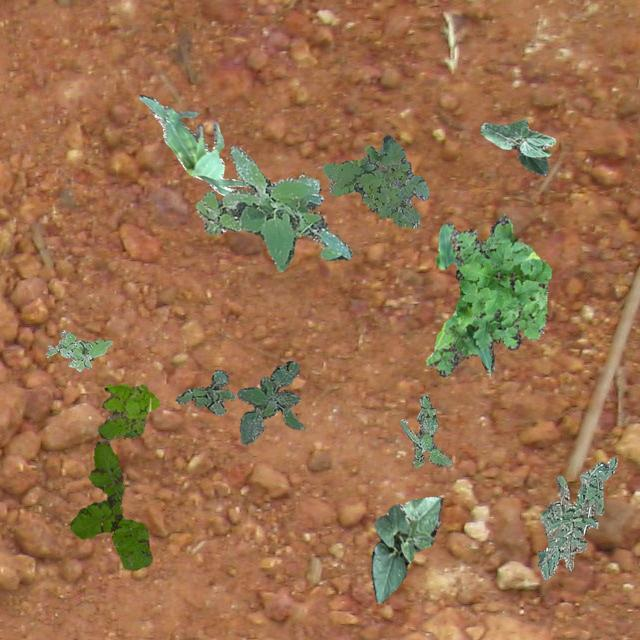crop: (137, 94, 245, 194), (371, 497, 442, 602), (480, 118, 554, 174)
weed: (195, 144, 352, 270), (426, 217, 550, 376), (68, 438, 152, 570), (322, 134, 428, 228), (536, 456, 616, 578), (236, 359, 302, 444), (398, 392, 451, 467), (96, 384, 158, 438), (174, 368, 236, 414), (44, 328, 112, 369)
